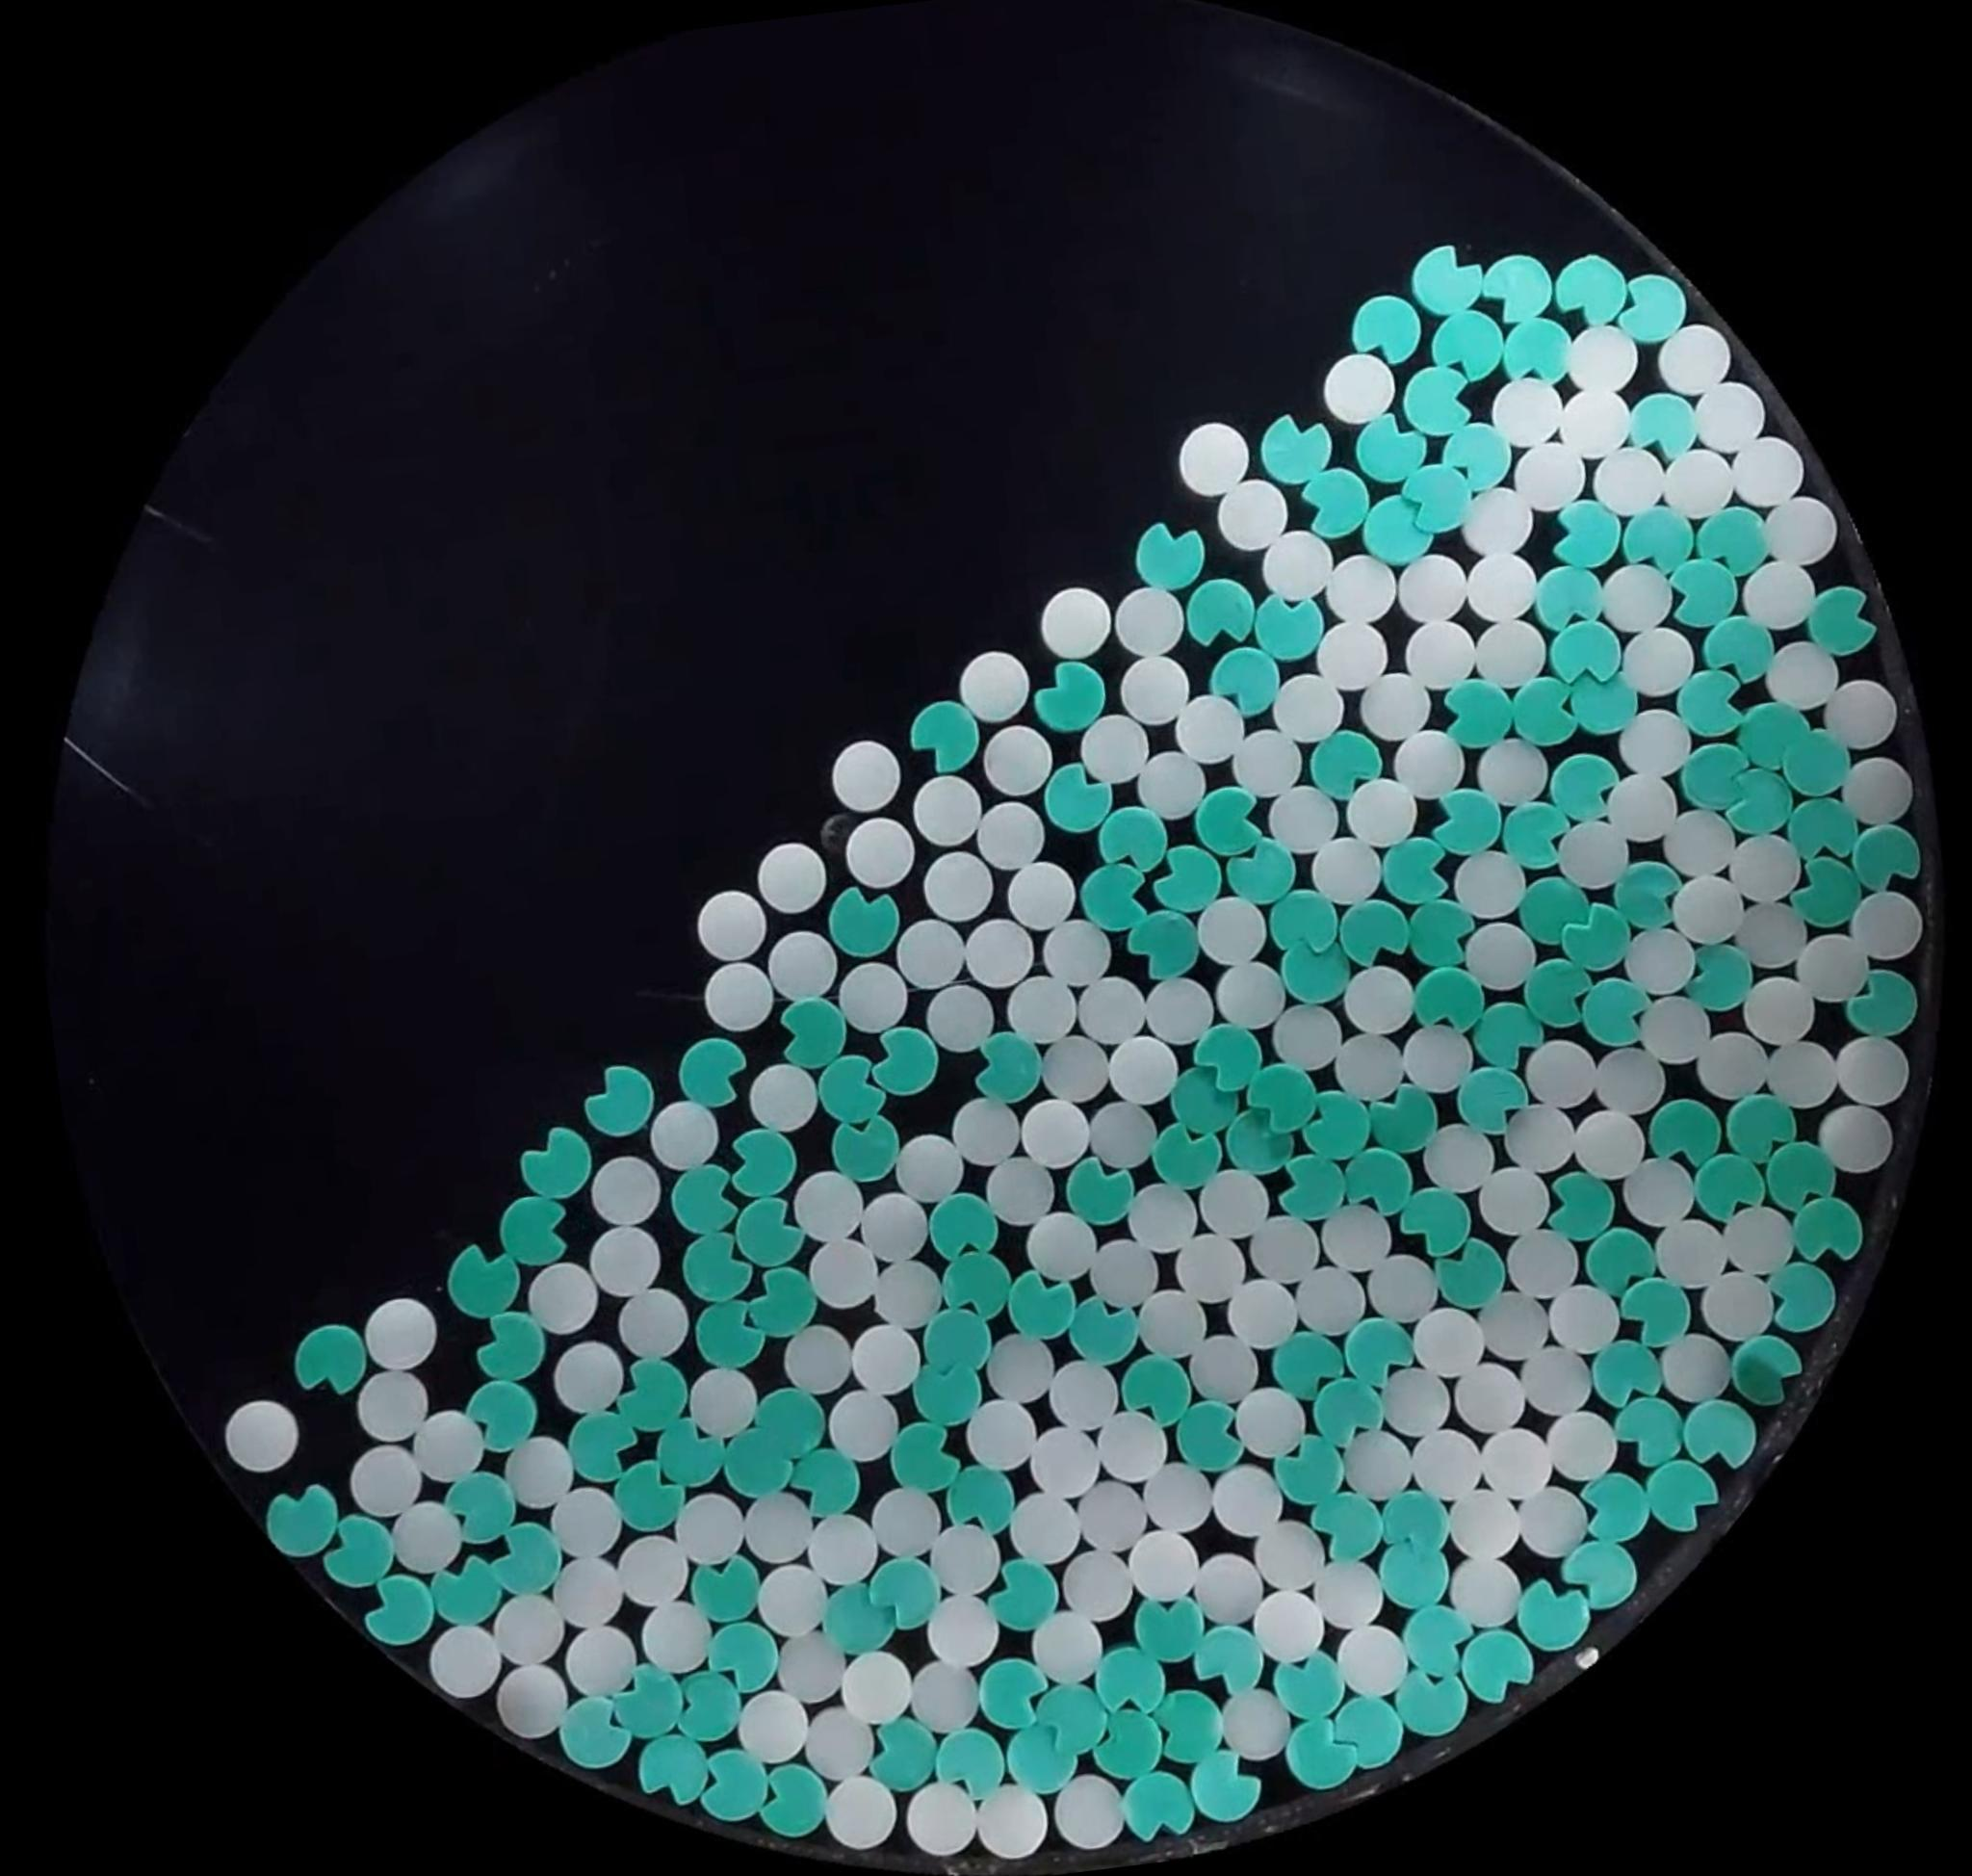no-convexa1: (917, 1168, 1012, 1279), (1164, 1390, 1259, 1481), (859, 1013, 944, 1108), (928, 1459, 1023, 1543), (1352, 1078, 1440, 1168), (810, 1045, 896, 1136), (604, 1351, 695, 1437), (461, 1363, 544, 1459), (903, 1341, 990, 1430), (877, 1414, 968, 1499), (1440, 1060, 1535, 1141), (717, 1120, 803, 1208), (1394, 1592, 1481, 1680), (467, 1296, 551, 1386), (687, 1288, 766, 1383), (1669, 742, 1764, 821), (1331, 1309, 1426, 1388), (484, 1513, 574, 1596), (1148, 831, 1231, 921), (1710, 766, 1801, 847), (750, 1374, 831, 1466), (819, 1104, 905, 1189), (1465, 988, 1548, 1075), (731, 1187, 812, 1275), (676, 1656, 755, 1746), (1512, 1573, 1597, 1656), (1456, 1624, 1539, 1707), (1558, 1534, 1643, 1615), (1370, 831, 1451, 916), (560, 1402, 641, 1487), (1011, 1258, 1090, 1344), (1028, 654, 1111, 735), (1840, 962, 1923, 1043), (1269, 1141, 1352, 1222), (1092, 798, 1174, 879), (1183, 1621, 1268, 1700), (683, 1550, 769, 1628), (1641, 1455, 1722, 1536), (1308, 1374, 1389, 1455), (1576, 1469, 1657, 1550), (1328, 1689, 1409, 1770), (1514, 872, 1595, 953), (1785, 853, 1866, 934), (291, 1318, 372, 1399), (1407, 240, 1488, 321), (444, 1240, 525, 1321), (262, 1481, 343, 1562), (1799, 581, 1880, 662), (1345, 289, 1428, 368), (1308, 1483, 1387, 1566), (1780, 793, 1866, 868), (1680, 1395, 1761, 1474), (1282, 1716, 1363, 1795), (491, 1189, 572, 1268), (1518, 955, 1599, 1034), (1761, 1134, 1840, 1215), (720, 1422, 801, 1501), (556, 1691, 636, 1772), (1736, 696, 1817, 775), (1555, 897, 1636, 976), (1255, 409, 1336, 488), (1269, 1429, 1349, 1510), (655, 1413, 736, 1492), (694, 1749, 773, 1830), (1396, 458, 1479, 535), (938, 1242, 1023, 1318), (1375, 1534, 1454, 1614), (916, 1304, 995, 1383), (1336, 893, 1416, 972), (1588, 1335, 1667, 1414), (444, 1466, 523, 1545), (1241, 1059, 1321, 1138), (1694, 502, 1773, 581), (516, 1124, 595, 1203), (1553, 250, 1632, 329), (1130, 516, 1210, 595), (865, 1714, 942, 1795), (820, 1578, 901, 1656), (1424, 782, 1505, 860), (1359, 491, 1440, 569), (782, 1443, 859, 1524), (1394, 1665, 1475, 1742), (1622, 1270, 1697, 1353), (974, 1654, 1051, 1733), (1120, 1765, 1199, 1843), (609, 1663, 688, 1740), (1666, 553, 1745, 631), (1789, 1191, 1868, 1268), (428, 1552, 507, 1629), (1118, 1349, 1196, 1429), (1092, 1642, 1169, 1721), (1271, 1647, 1349, 1726), (1581, 1222, 1660, 1300), (1576, 972, 1655, 1050), (755, 1760, 833, 1839), (1764, 1258, 1842, 1337), (1671, 662, 1750, 740), (1398, 361, 1477, 439), (1181, 572, 1261, 650), (579, 1060, 659, 1138), (1646, 1094, 1725, 1171), (1266, 1326, 1345, 1404), (1333, 1138, 1412, 1215), (706, 1615, 785, 1693), (1491, 798, 1572, 874), (984, 1557, 1062, 1635), (1398, 1184, 1475, 1261), (1148, 1115, 1225, 1193), (1701, 609, 1778, 687), (1724, 1089, 1801, 1166), (1060, 1152, 1137, 1230), (322, 1511, 400, 1589), (1250, 588, 1328, 666), (1613, 270, 1690, 347), (1690, 1147, 1768, 1224), (1609, 856, 1687, 934), (861, 1554, 938, 1631), (1446, 412, 1523, 490), (1430, 305, 1509, 380), (1299, 1085, 1375, 1164), (1409, 960, 1488, 1036), (1620, 500, 1699, 576), (1306, 726, 1386, 801), (1777, 722, 1852, 801), (970, 1025, 1046, 1104), (907, 696, 982, 775), (1727, 1328, 1806, 1404), (1152, 1682, 1222, 1767), (1269, 884, 1345, 962), (1548, 613, 1625, 689), (1784, 793, 1861, 868), (1078, 856, 1153, 934), (1440, 676, 1518, 752), (1039, 759, 1116, 835), (1190, 1018, 1266, 1096), (637, 1730, 713, 1807), (1125, 905, 1203, 981), (1208, 641, 1284, 719), (674, 1032, 750, 1110), (363, 1569, 438, 1647), (826, 883, 901, 960), (1544, 1170, 1620, 1247), (1222, 1101, 1296, 1180), (1065, 1291, 1146, 1363), (1271, 935, 1352, 1008), (673, 1150, 741, 1235), (747, 1256, 815, 1341), (1132, 1591, 1208, 1666), (1433, 1235, 1509, 1311), (1188, 782, 1264, 858), (1546, 747, 1622, 823), (1479, 250, 1555, 326), (1167, 1062, 1243, 1138), (1129, 905, 1204, 981), (1530, 558, 1608, 632), (776, 992, 850, 1069), (1092, 1707, 1166, 1784), (1005, 1719, 1079, 1797), (1847, 817, 1924, 891), (1683, 939, 1757, 1016), (1549, 499, 1625, 572), (1299, 463, 1373, 539), (1625, 388, 1701, 462), (1498, 312, 1574, 386), (1354, 412, 1430, 486), (1187, 1753, 1262, 1827), (614, 1455, 687, 1533), (1379, 1480, 1458, 1550), (1507, 675, 1581, 749), (361, 1578, 437, 1651), (1225, 835, 1299, 907), (1565, 668, 1639, 738), (937, 1725, 1005, 1800), (683, 1231, 752, 1305), (1609, 1402, 1685, 1469), (1410, 898, 1477, 971), (1039, 1679, 1104, 1746)
